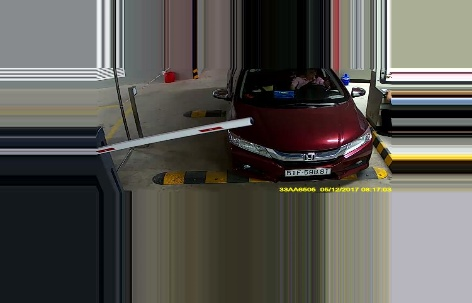plate: (282, 166, 332, 177)
